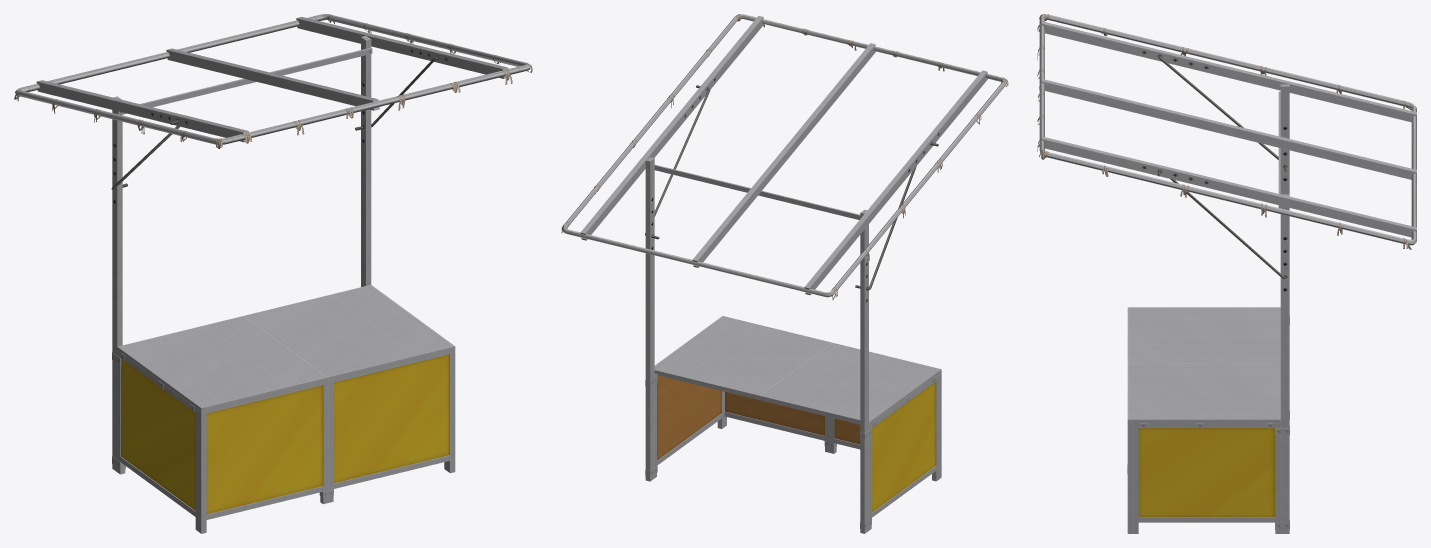
The model's file is jsf_2P_s01_c03_t01.fbx.
3 renders of one model, left to right at view 1: azimuth 30°, elevation 25°; view 2: azimuth 150°, elevation 25°; view 3: azimuth 270°, elevation 25°, orthographic. The views are drawn at different scales.
Visible parts, largest first — view 1: Base_s01_c03, Pillar2_s01, Table_2P_s01_t01, Rope_2P_s01; view 2: Pillar2_s01, Table_2P_s01_t01, Base_s01_c03, Rope_2P_s01; view 3: Pillar2_s01, Table_2P_s01_t01, Base_s01_c03, Rope_2P_s01.
Boxes of the visible parts, box(x1,y1,x2,y2) form: Base_s01_c03: box(112, 346, 455, 533); Pillar2_s01: box(15, 14, 530, 471); Table_2P_s01_t01: box(117, 285, 453, 412); Rope_2P_s01: box(14, 14, 532, 148); Pillar2_s01: box(561, 14, 1006, 533); Table_2P_s01_t01: box(654, 316, 940, 427); Base_s01_c03: box(645, 316, 941, 530); Rope_2P_s01: box(561, 14, 1008, 299); Pillar2_s01: box(1039, 14, 1416, 533); Table_2P_s01_t01: box(1129, 307, 1280, 428); Base_s01_c03: box(1127, 307, 1289, 533); Rope_2P_s01: box(1037, 14, 1411, 249).
Bounding box in the file's own units: 186 × 244 × 211.
